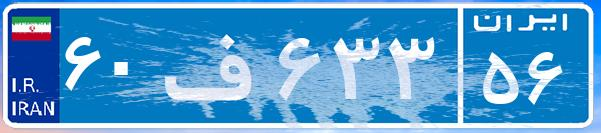0: (110, 28, 158, 105)
3: (385, 28, 445, 110), (330, 28, 385, 110)
5: (475, 38, 525, 113)
6: (273, 28, 330, 110), (57, 26, 110, 107), (525, 38, 570, 115)
ف: (158, 15, 273, 115)
